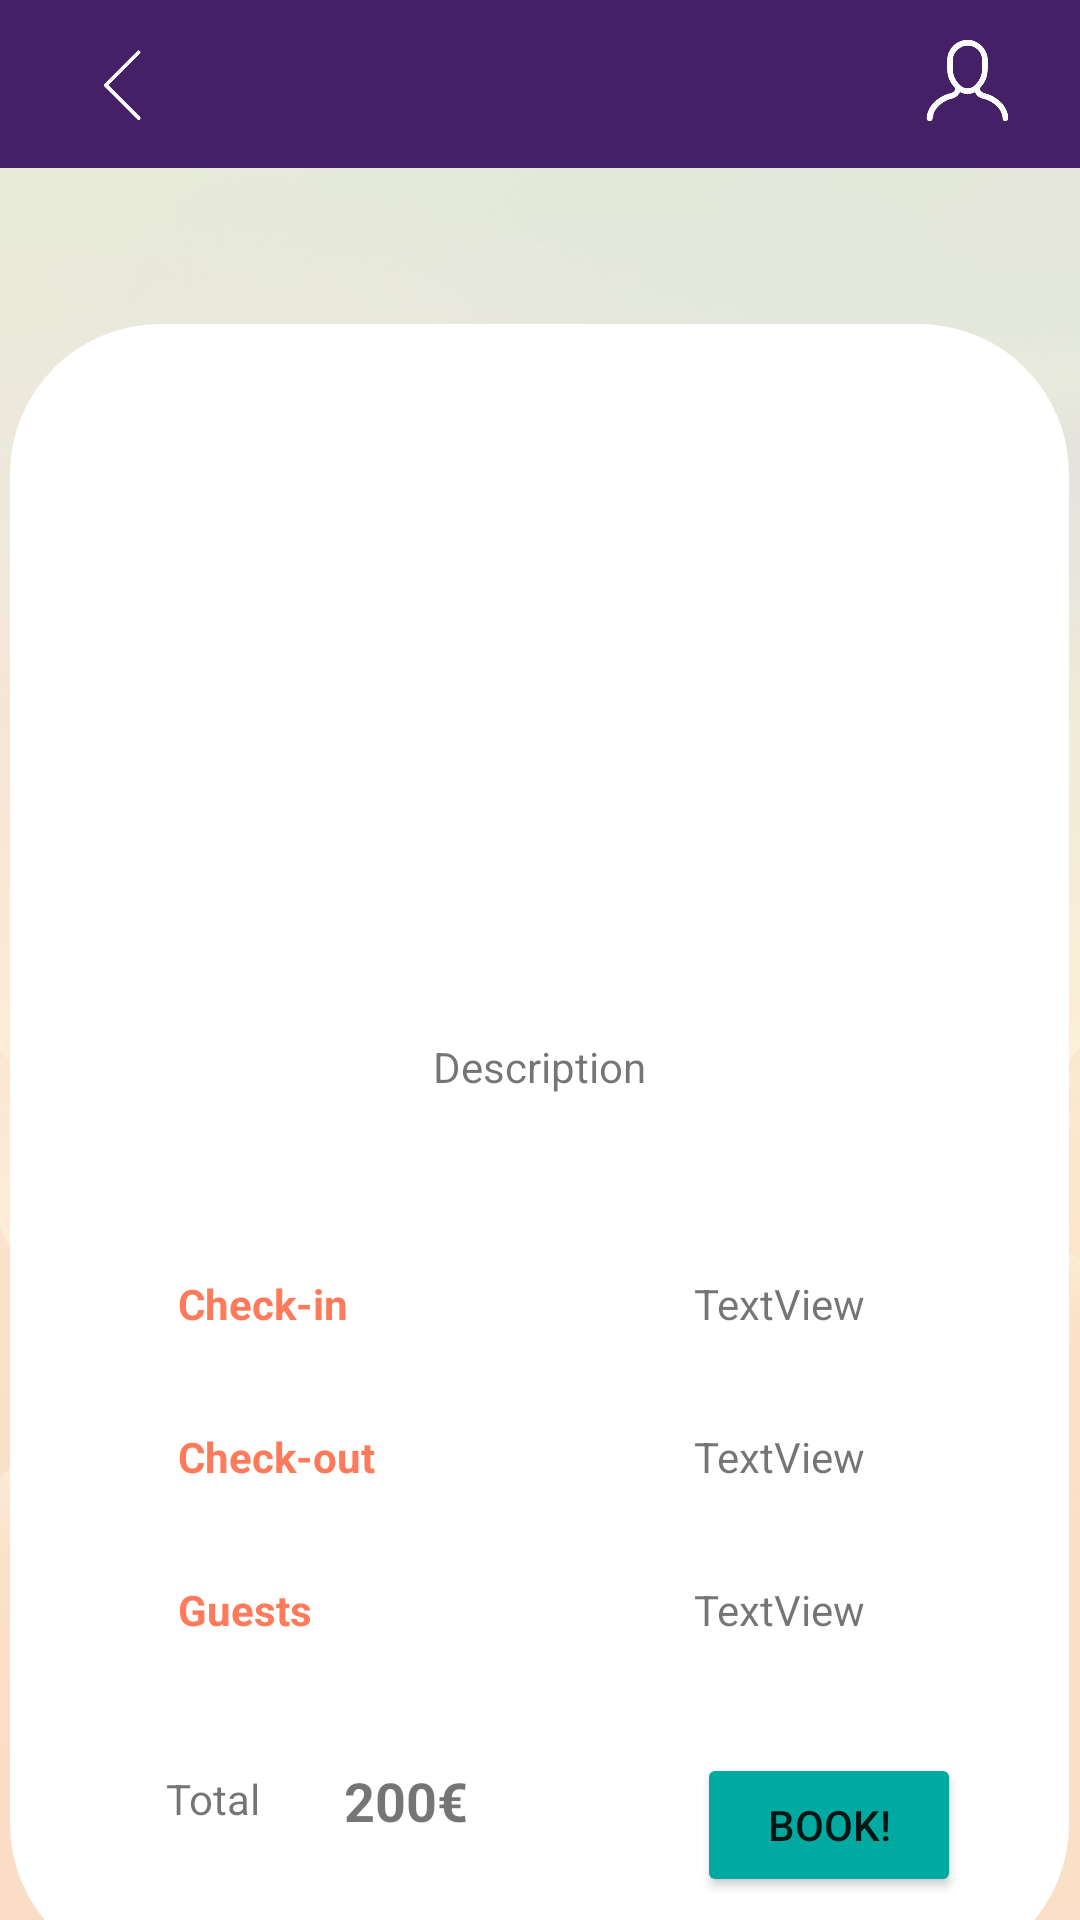

Point at icon controls on the screen. Image size 1080x1920, points as point (x, y).
flecha izquierda: point (122, 85)
profile: point (967, 80)
